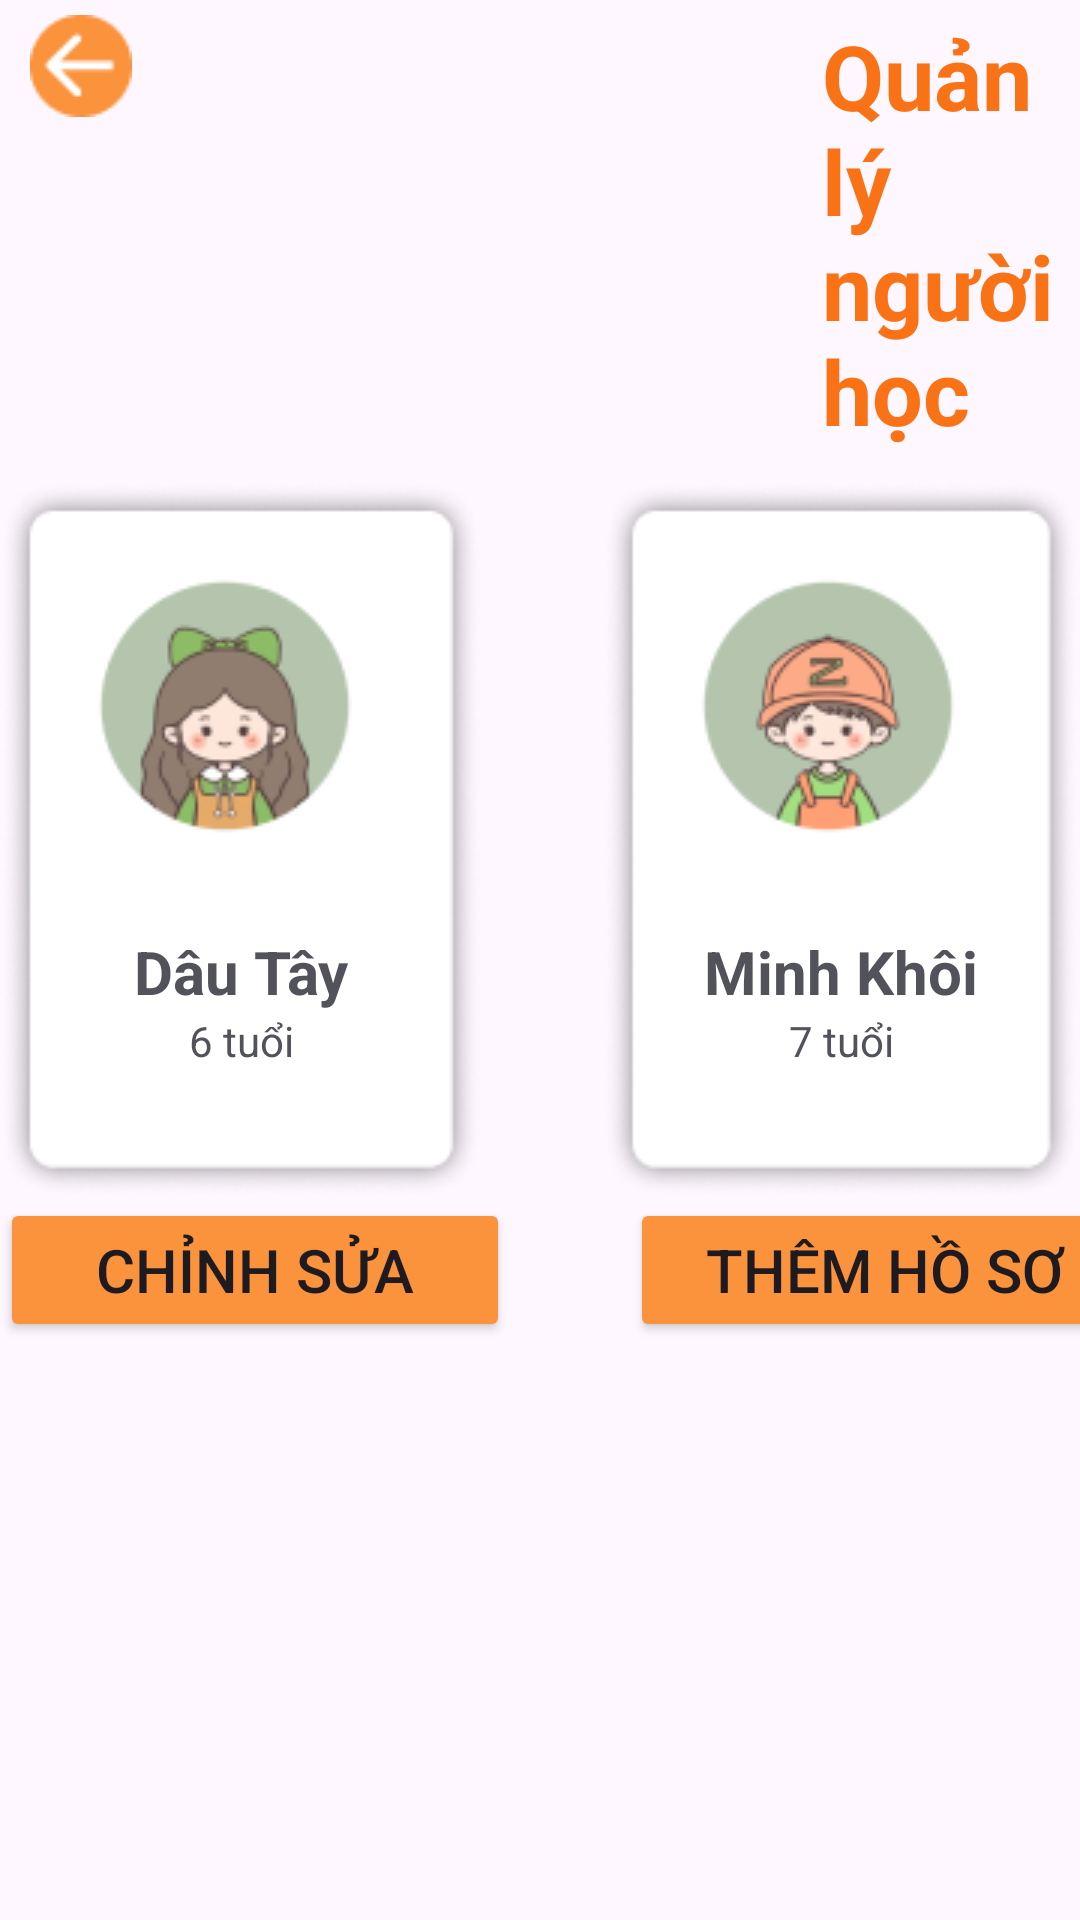

Screen size 1080×1920. Icon name, then its center in pixels as [x,y]:
avt: [225,706], [828,706]
exit: [81,66]
